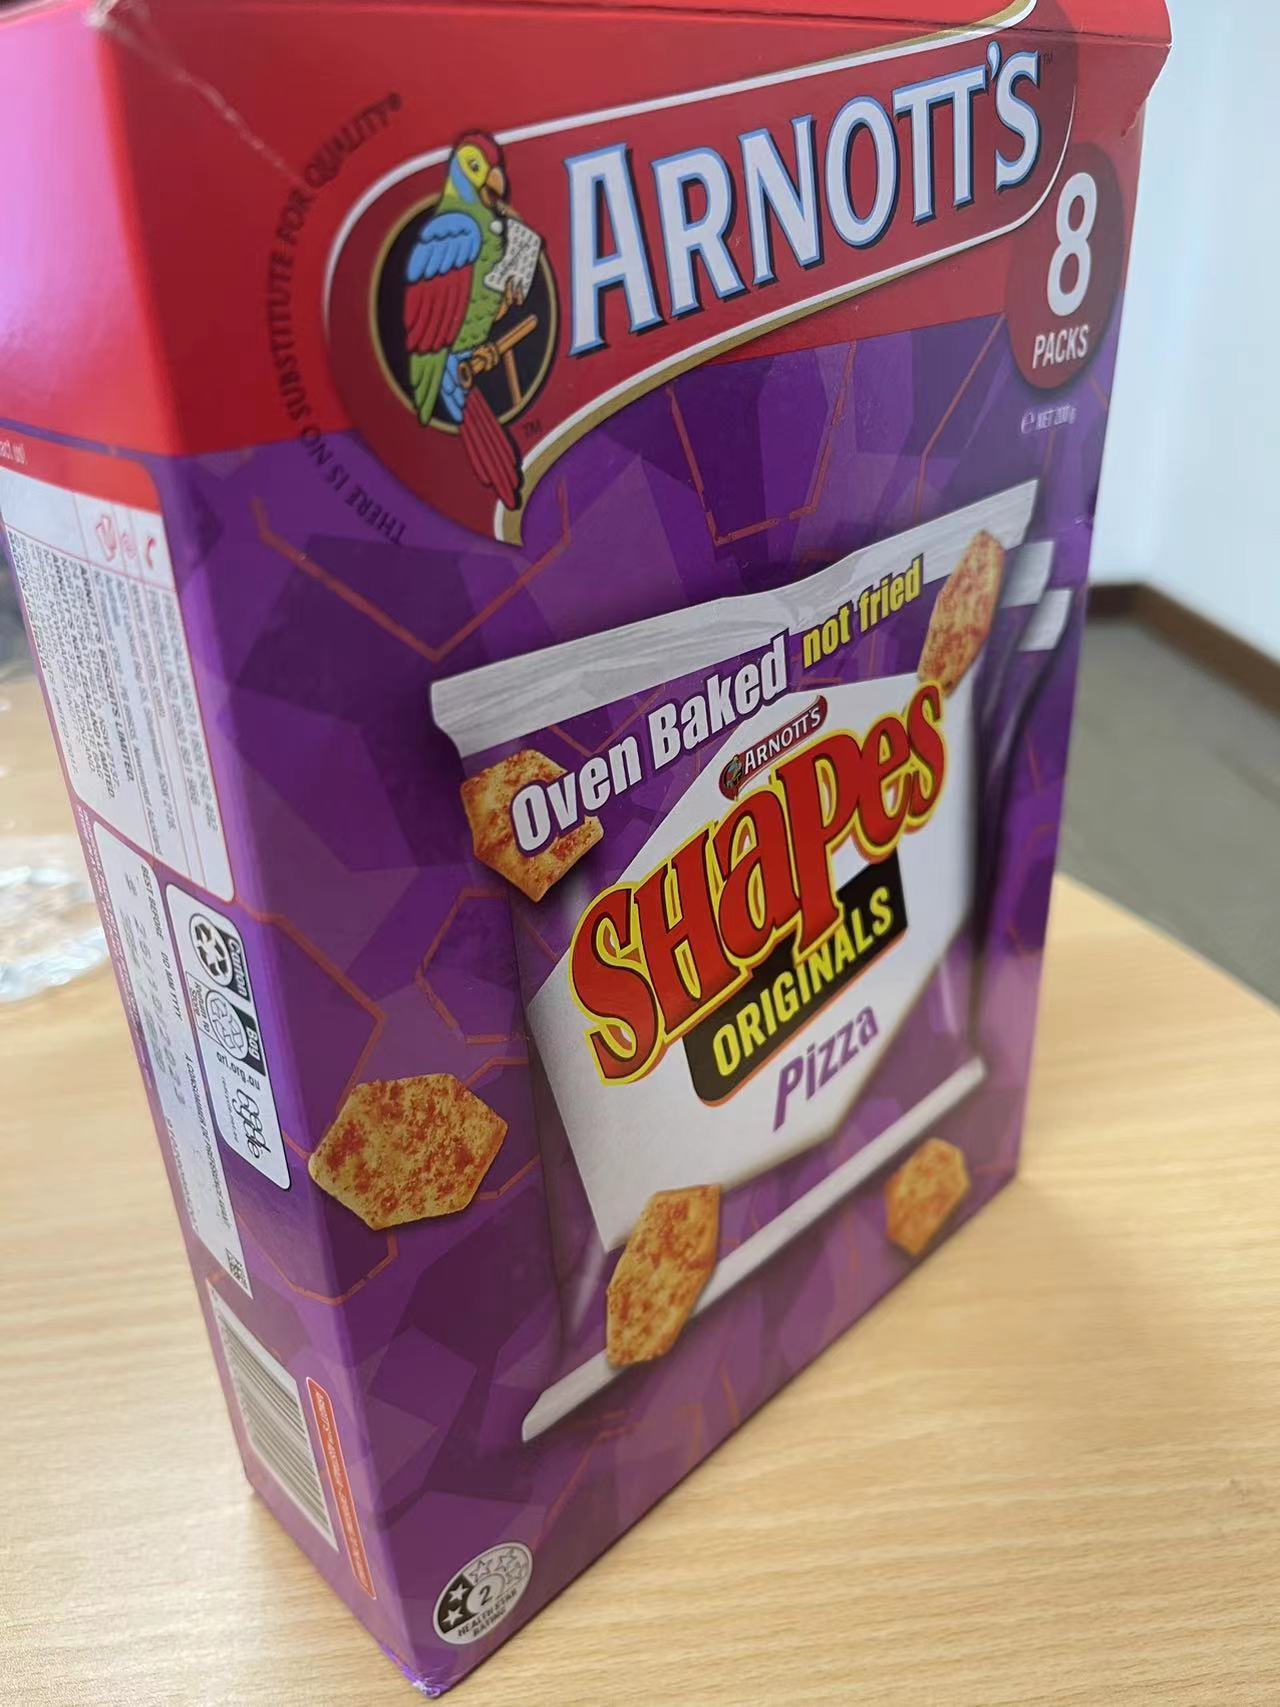Crackers_200-299g_NonHalal_NonHealthy: (5, 1, 1133, 1675)
